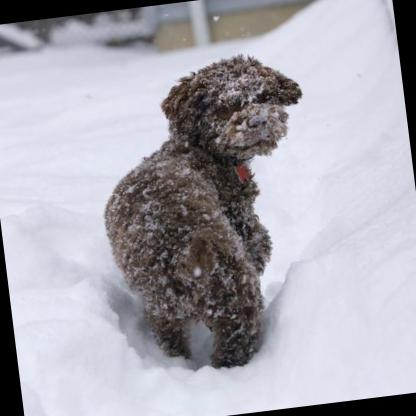miniature_poodle: (82, 43, 332, 380)
